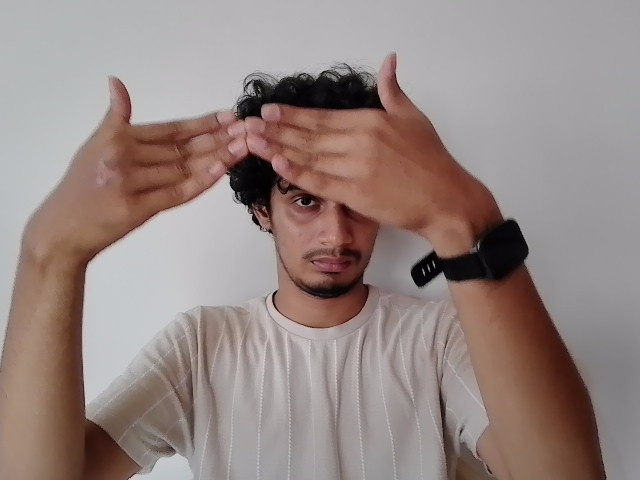family: (27, 52, 480, 257)
